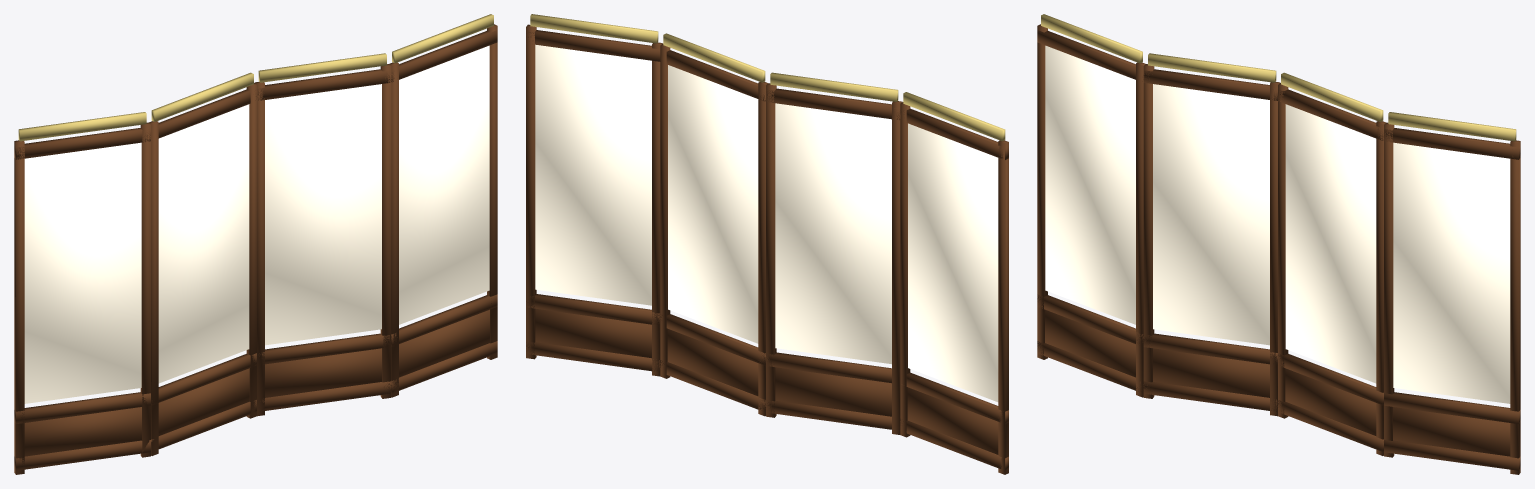
The model's file is binh_phong.glb.
3 renders of one model, left to right at view 1: azimuth 30°, elevation 25°; view 2: azimuth 150°, elevation 25°; view 3: azimuth 330°, elevation 25°, orthographic.
Parts seen in each view (by area): view 1: Cube; view 2: Cube; view 3: Cube.
Part boxes in pixels (box(x1,y1,x2,y2)): Cube: box(14, 14, 497, 474); Cube: box(526, 14, 1008, 474); Cube: box(1037, 14, 1520, 474).
Size of the model in its own units: 5.11 by 3.48 by 0.3225.
